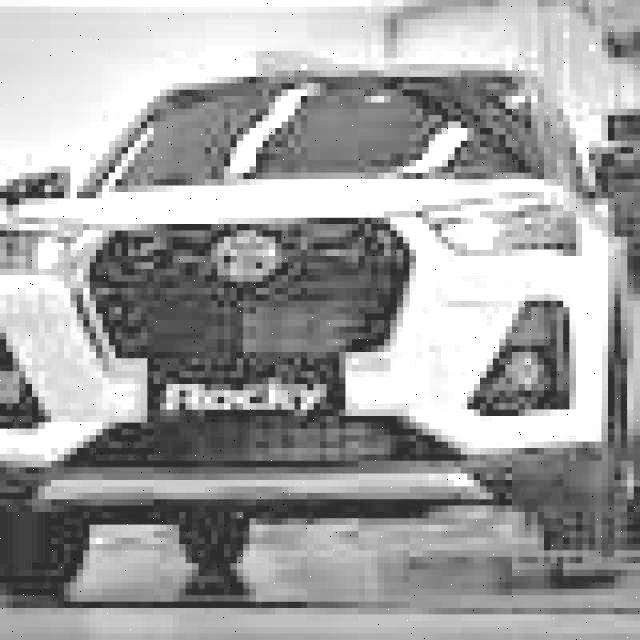Car: (0, 58, 640, 594)
